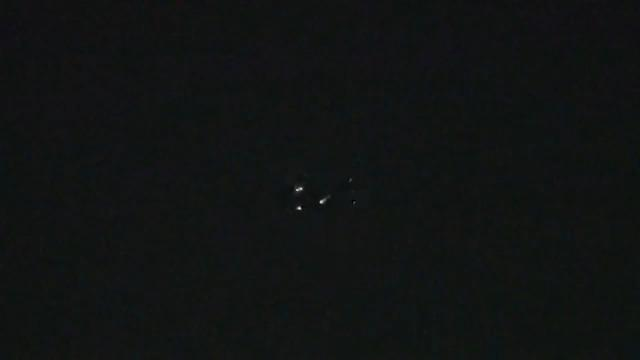Plane: (274, 173, 369, 218)
